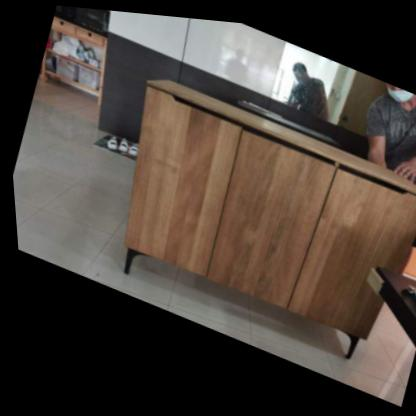Sideboard: (91, 63, 416, 352)
